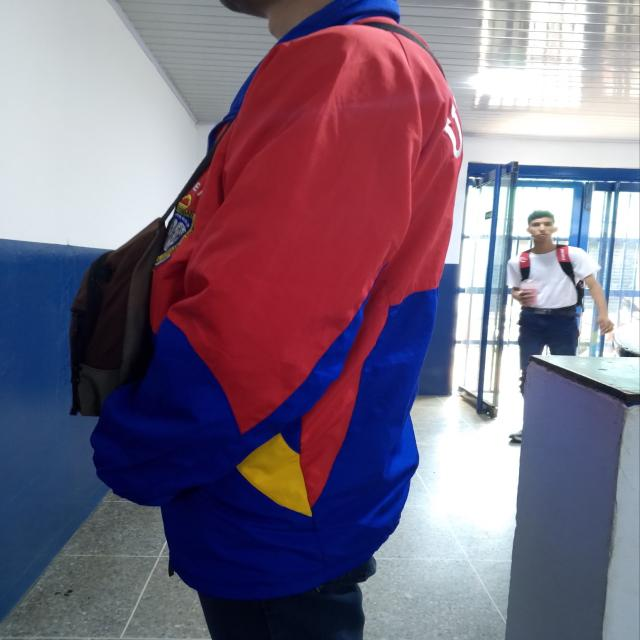chaqueta_unefa: (86, 0, 463, 600)
